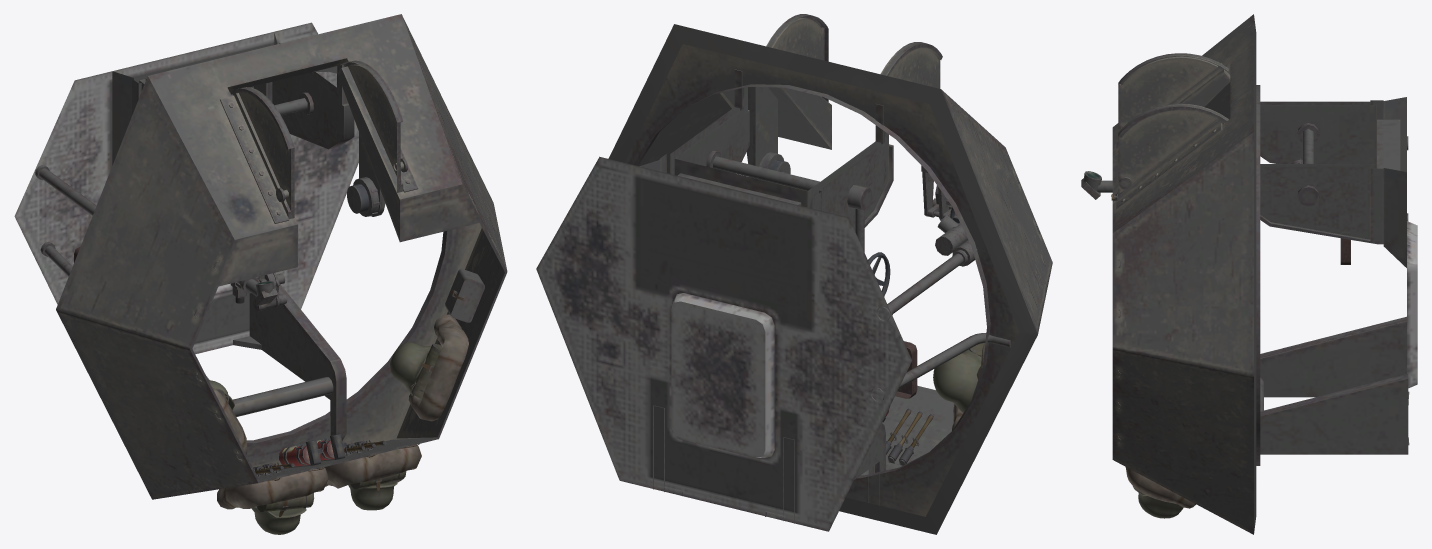
Rendered from Turret_01.glb.
The picture shows the model from 3 angles, left to right: view 1: azimuth 30°, elevation 25°; view 2: azimuth 150°, elevation 25°; view 3: azimuth 270°, elevation 25°; orthographic projection. The views are drawn at different scales.
Parts seen in each view (by area): view 1: set_0_group_0; view 2: set_0_group_0; view 3: set_0_group_0.
Part boxes in pixels (x1,y1,x2,y2): set_0_group_0: (14, 14, 507, 534); set_0_group_0: (536, 14, 1052, 534); set_0_group_0: (1081, 14, 1417, 534).
Size of the model in its own units: 2.47 by 2.38 by 1.72.
1 material, 1 textured.
